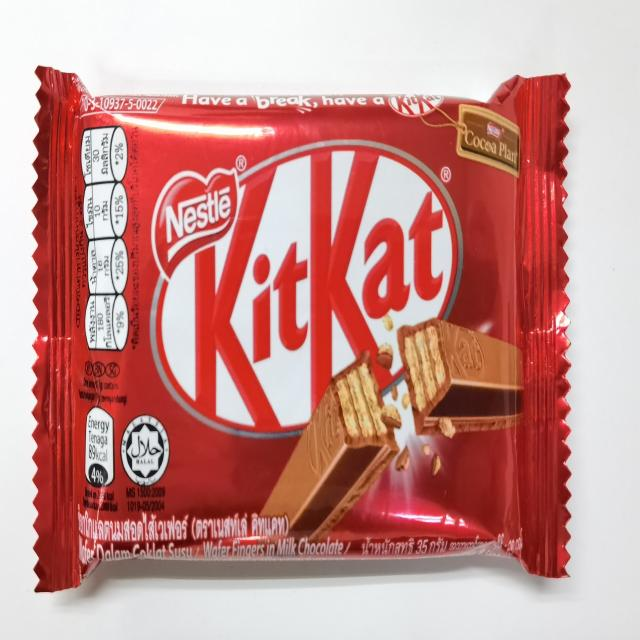kitkat: (33, 65, 570, 590)
